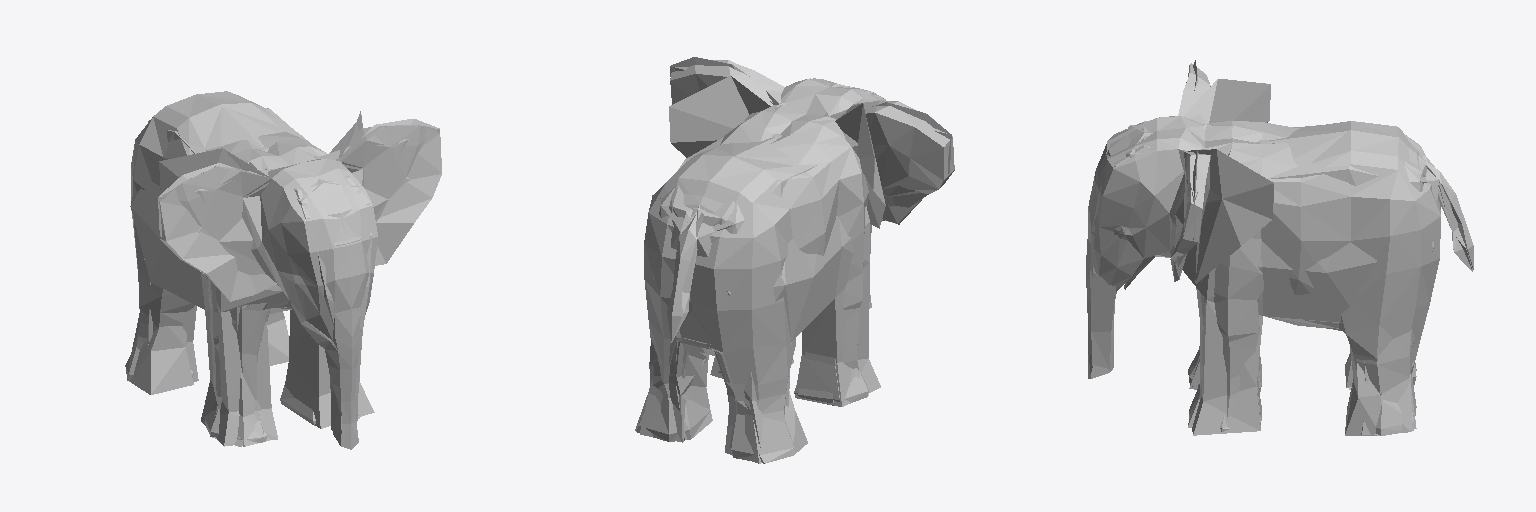
The model's file is African Elefant Calf.obj.
The picture shows the model from 3 angles: view 1: azimuth 30°, elevation 25°; view 2: azimuth 150°, elevation 25°; view 3: azimuth 270°, elevation 25°; orthographic projection.
Parts seen in each view (by area): view 1: Editable_Mesh.001, Editable_Mesh.002, Editable_Mesh.003, Editable_Mesh; view 2: Editable_Mesh.001, Editable_Mesh.002, Editable_Mesh.003, Editable_Mesh; view 3: Editable_Mesh.001, Editable_Mesh.002, Editable_Mesh.003, Editable_Mesh.
Part boxes in pixels (left/top/right/bottom): Editable_Mesh.001: left=125, top=91, right=441, bottom=449; Editable_Mesh.002: left=130, top=106, right=374, bottom=446; Editable_Mesh.003: left=130, top=119, right=439, bottom=446; Editable_Mesh: left=162, top=126, right=435, bottom=410; Editable_Mesh.001: left=637, top=60, right=954, bottom=463; Editable_Mesh.002: left=635, top=76, right=885, bottom=447; Editable_Mesh.003: left=640, top=57, right=951, bottom=463; Editable_Mesh: left=668, top=60, right=946, bottom=405; Editable_Mesh.001: left=1086, top=63, right=1473, bottom=435; Editable_Mesh.002: left=1090, top=79, right=1472, bottom=435; Editable_Mesh.003: left=1092, top=60, right=1472, bottom=435; Editable_Mesh: left=1096, top=64, right=1457, bottom=420.
Bounding box in the file's own units: 5.23 × 5.18 × 6.24.